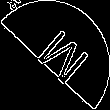M_SW: (23, 21, 87, 89)
